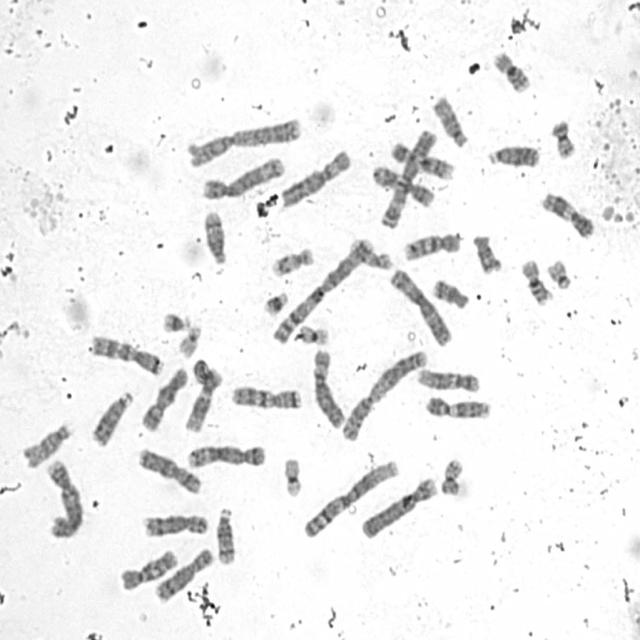A1: (268, 232, 376, 346), (299, 454, 402, 540)
A2: (338, 345, 431, 443), (184, 111, 304, 168)
A3: (377, 124, 439, 230), (386, 264, 453, 347)
B4: (358, 472, 439, 540), (43, 456, 85, 540)
B5: (198, 152, 286, 201), (184, 439, 268, 470)
C10: (118, 545, 180, 592), (400, 228, 463, 262)
C11: (370, 161, 435, 209), (539, 187, 597, 239)
C12: (182, 365, 224, 433), (414, 363, 482, 394)
C6: (278, 144, 353, 209), (309, 343, 347, 430)
C7: (87, 330, 166, 378), (228, 381, 304, 411)
C8: (152, 543, 215, 604), (140, 508, 211, 539)
C9: (388, 138, 456, 181), (422, 391, 494, 421)
D13: (88, 386, 136, 448), (484, 139, 542, 170)
D14: (200, 207, 230, 266), (212, 502, 238, 566)
D15: (19, 418, 72, 470), (429, 91, 471, 149)
E16: (490, 46, 533, 94), (518, 254, 555, 307)
E17: (346, 234, 395, 271), (268, 242, 316, 277)
E18: (469, 229, 504, 274), (429, 274, 471, 311)
F19: (280, 452, 304, 500), (294, 319, 330, 346)
F20: (548, 114, 578, 160), (437, 453, 466, 497)
G21: (260, 286, 291, 317), (158, 307, 192, 334)
G22: (544, 254, 573, 291), (175, 320, 203, 358)
X: (138, 362, 190, 433), (134, 444, 203, 496)
